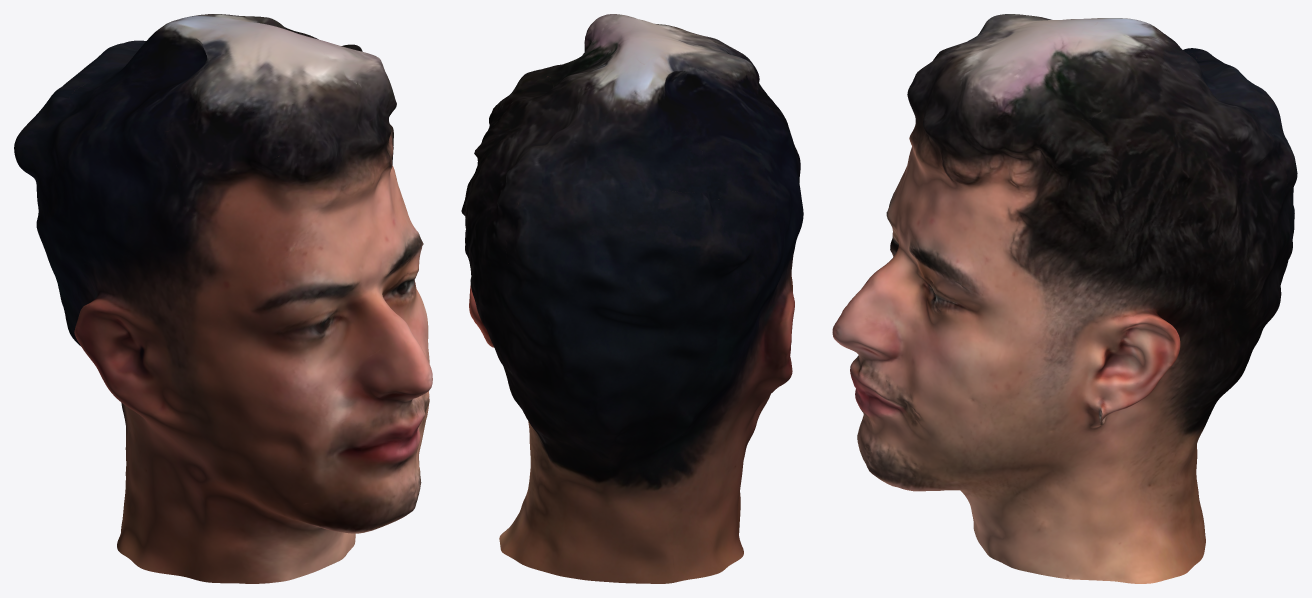
The picture shows the model from 3 angles, left to right: view 1: azimuth 30°, elevation 25°; view 2: azimuth 150°, elevation 25°; view 3: azimuth 270°, elevation 25°; orthographic projection. The views are drawn at different scales.
Visible parts, largest first — view 1: 3DModel; view 2: 3DModel; view 3: 3DModel.
Part boxes in pixels (x1,y1,x2,y2): 3DModel: (14,14,432,583); 3DModel: (461,14,803,583); 3DModel: (832,14,1297,583).
Size of the model in its own units: 0.3411 by 0.527 by 0.4387.
Materials: 1 (1 with a texture image).
